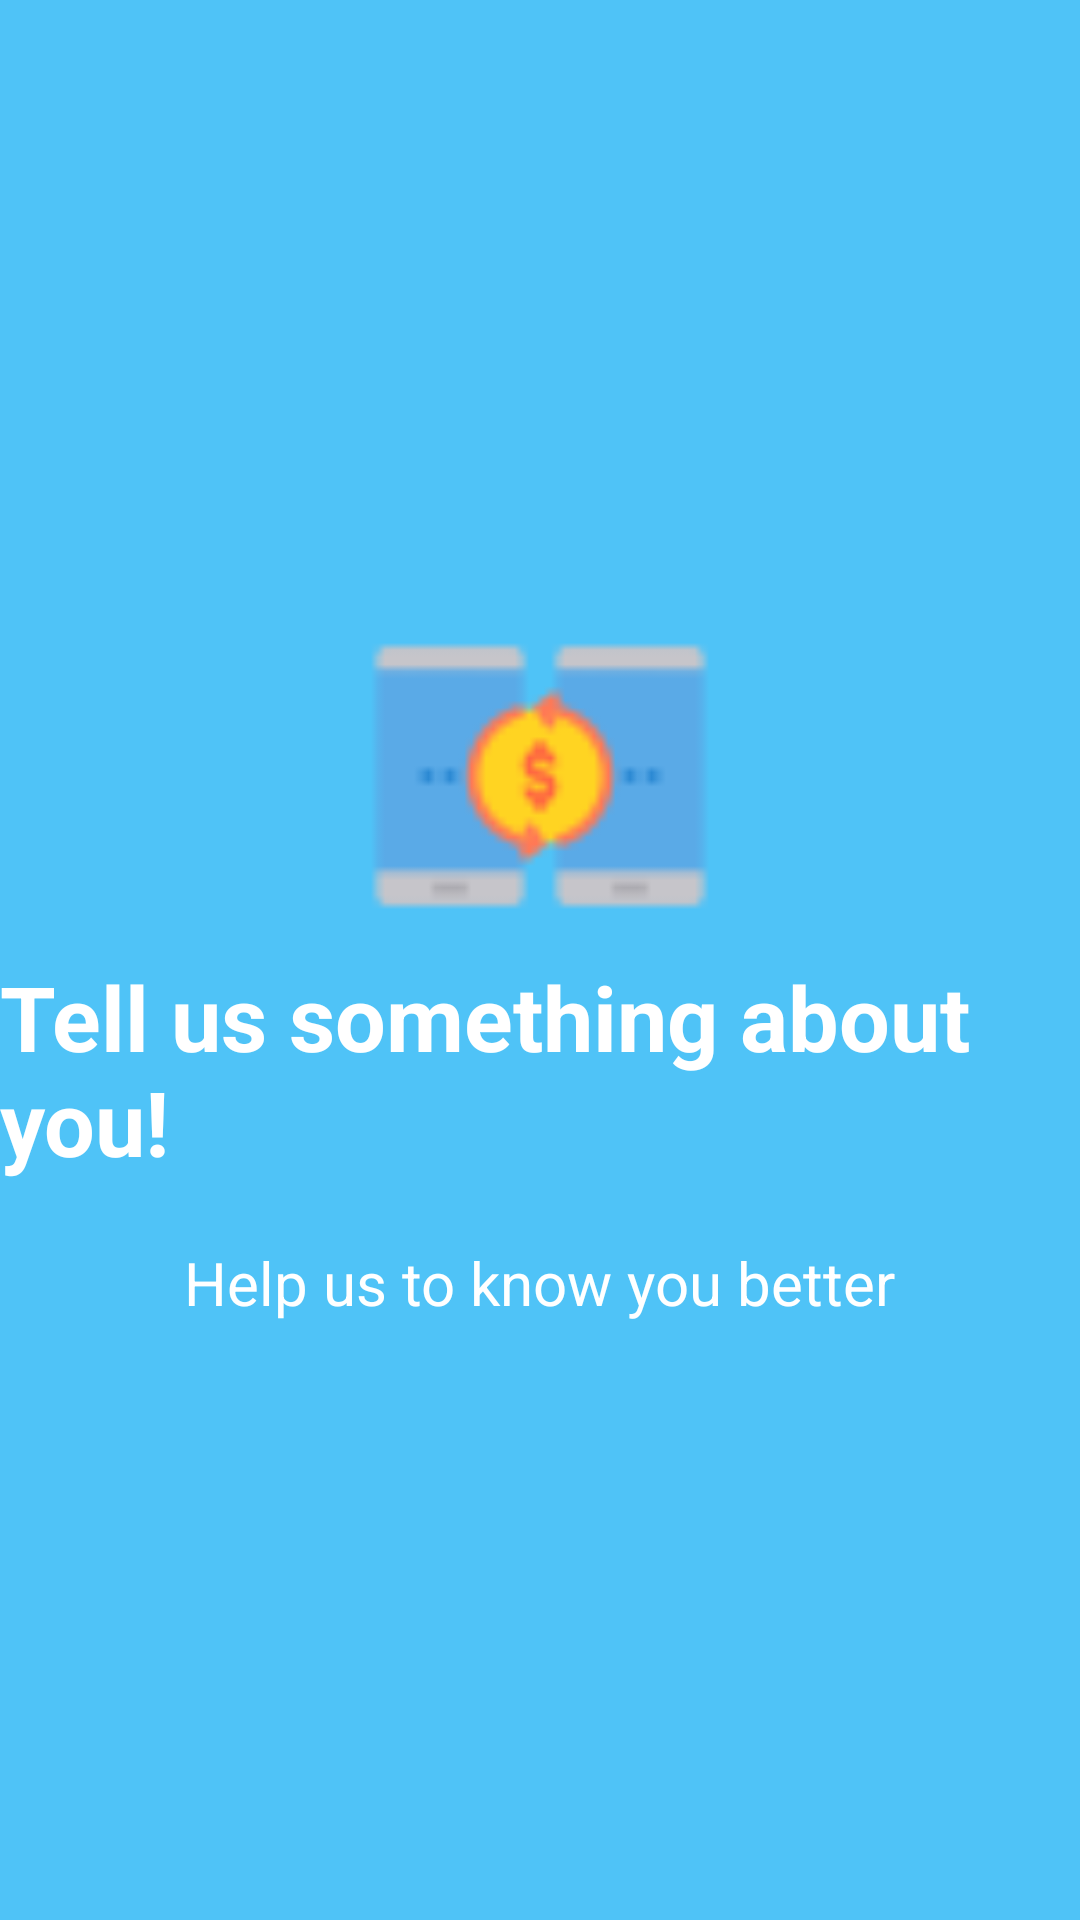

Screen size 1080px x 1920px. Icon name, then its center in pixels as [x,y]:
moneytransfer: [540,776]
